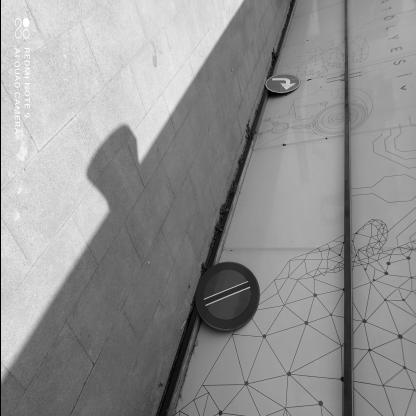No Waiting: (197, 263, 261, 333)
